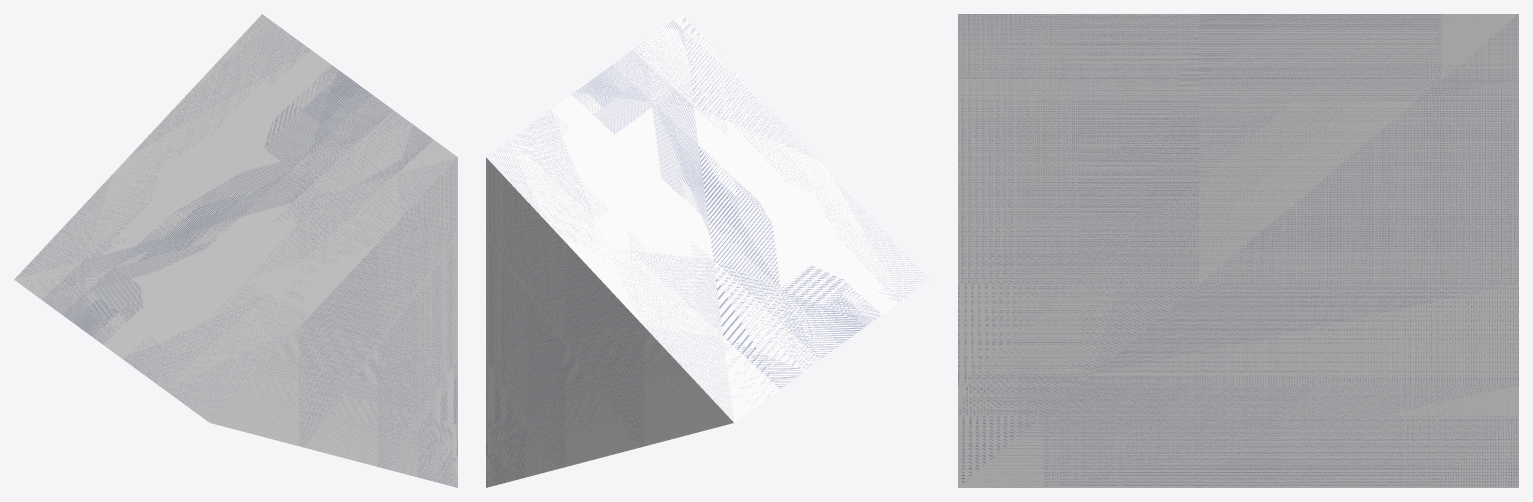
File: Prism.fbx
3 renders of one model, left to right at view 1: azimuth 30°, elevation 25°; view 2: azimuth 150°, elevation 25°; view 3: azimuth 270°, elevation 25°, orthographic. The views are drawn at different scales.
Visible parts, largest first — view 1: SketchUp; view 2: SketchUp; view 3: SketchUp.
Boxes of the visible parts, left/top/right/bottom form: SketchUp: left=14, top=14, right=457, bottom=487; SketchUp: left=486, top=14, right=929, bottom=487; SketchUp: left=958, top=14, right=1518, bottom=487.
Bounding box in the file's own units: 28.88 × 36.78 × 39.44.
